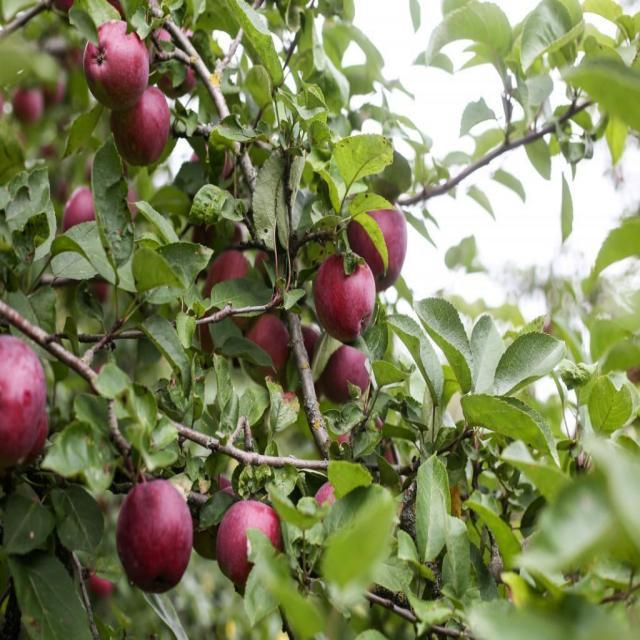Red Apple: (115, 478, 196, 581), (1, 339, 50, 471), (349, 199, 414, 284), (85, 19, 150, 102), (219, 493, 282, 576), (317, 255, 377, 336), (118, 78, 174, 159), (208, 246, 265, 320), (250, 310, 299, 380), (321, 335, 371, 399), (63, 174, 106, 244), (154, 23, 195, 88), (12, 87, 42, 121)
